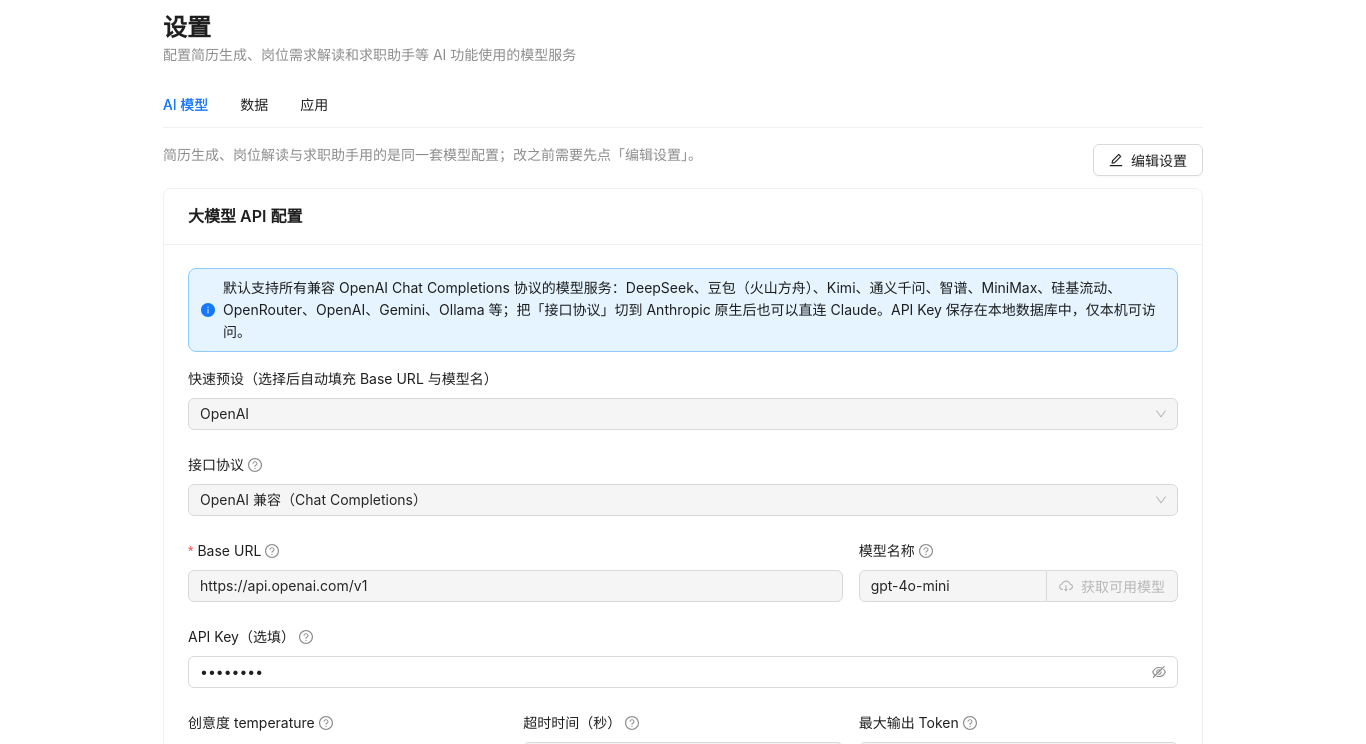
SettingsPage parameter help › shows help for 最大输出 Token on hover
The width and height of the screenshot is (1366, 744).
Hover over the picture named "question-circle" next to "最大输出 Token" at (970, 723), box [963,716,977,730]
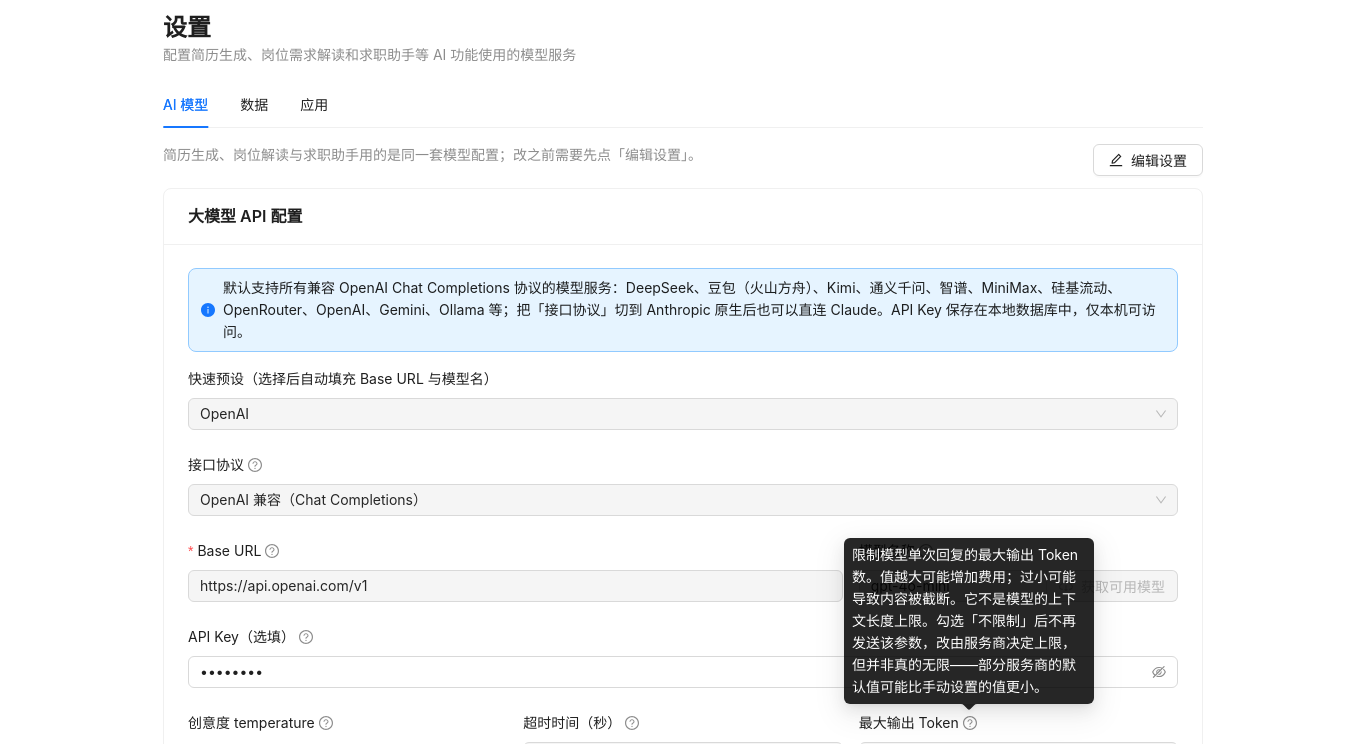
Now the tooltip shows "限制模型单次回复的最大输出 Token 数。值越大可能增加费用；过小可能导致内容被截断。它不是模型的上下文长度上限。勾选「不限制」后不再发送该参数，改由服务商决定上限，但并非真的无限——部分服务商的默认值可能比手动设置的值更小。", box [852,546,1078,695]
